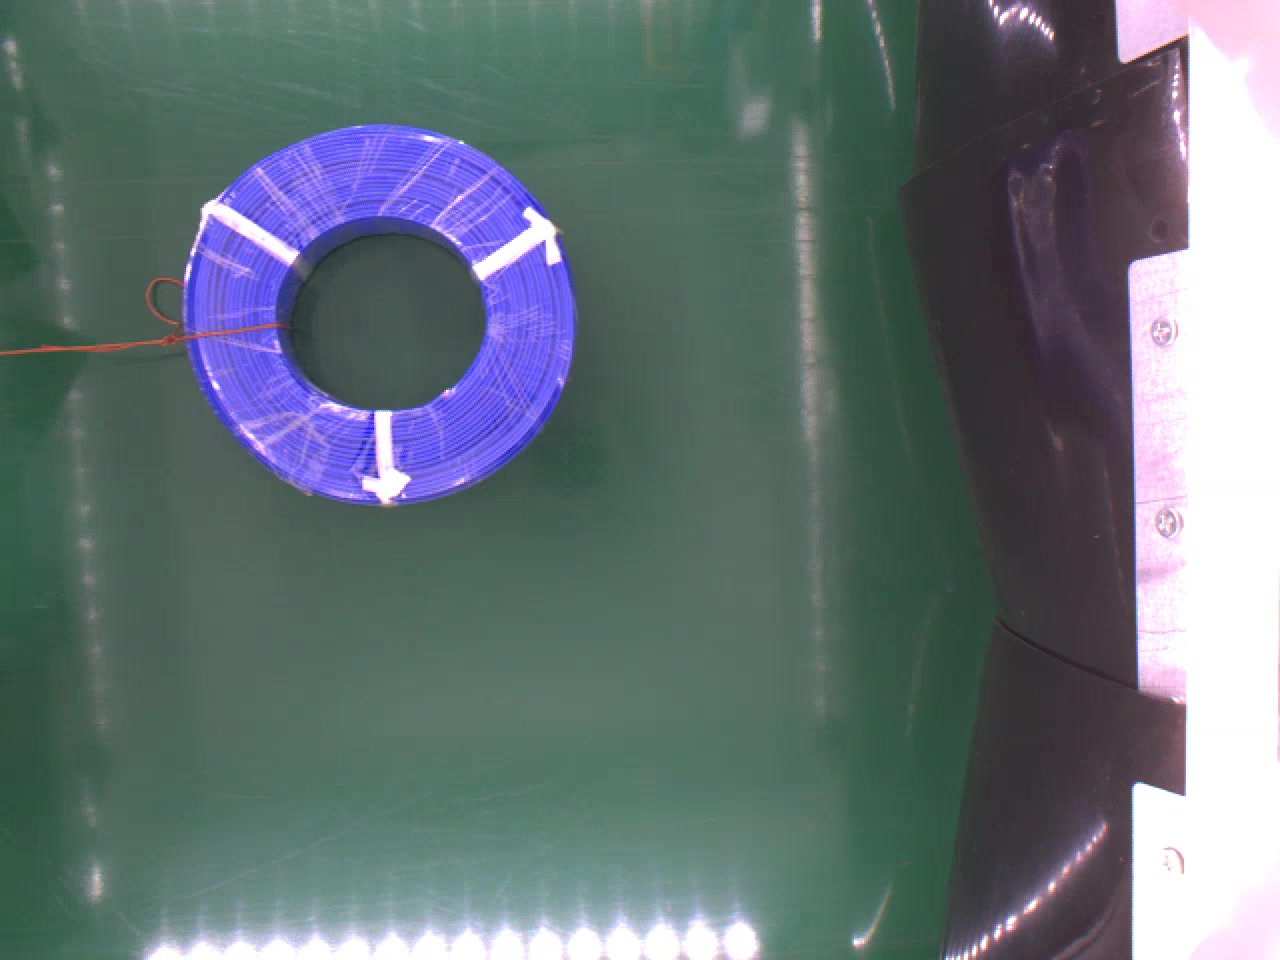blue: (181, 121, 580, 515)
